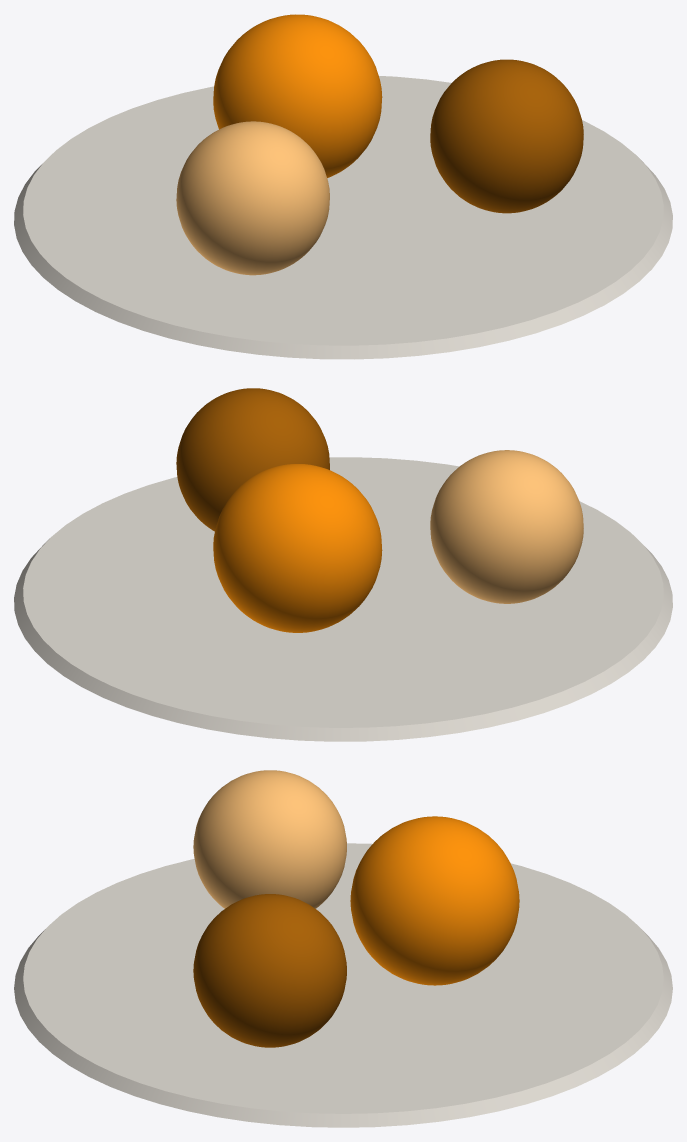
Rendered from orange.glb.
3 views of the same model, one above another, from view 1: azimuth 30°, elevation 25°; view 2: azimuth 150°, elevation 25°; view 3: azimuth 270°, elevation 25° (orthographic).
Visible parts, largest first — view 1: base, dark, light, normal; view 2: base, normal, light, dark; view 3: base, normal, dark, light.
Part boxes in pixels (box(x1,y1,x2,y2)): base: box(14, 76, 672, 359); dark: box(430, 59, 583, 213); light: box(176, 121, 329, 275); normal: box(213, 14, 382, 177); base: box(14, 457, 672, 741); normal: box(213, 464, 382, 632); light: box(430, 450, 583, 603); dark: box(176, 388, 329, 531); base: box(14, 843, 672, 1127); normal: box(350, 816, 519, 985); dark: box(193, 894, 346, 1047); light: box(193, 770, 346, 908).
Bounding box in the file's own units: 3.6 × 0.99 × 3.6.
